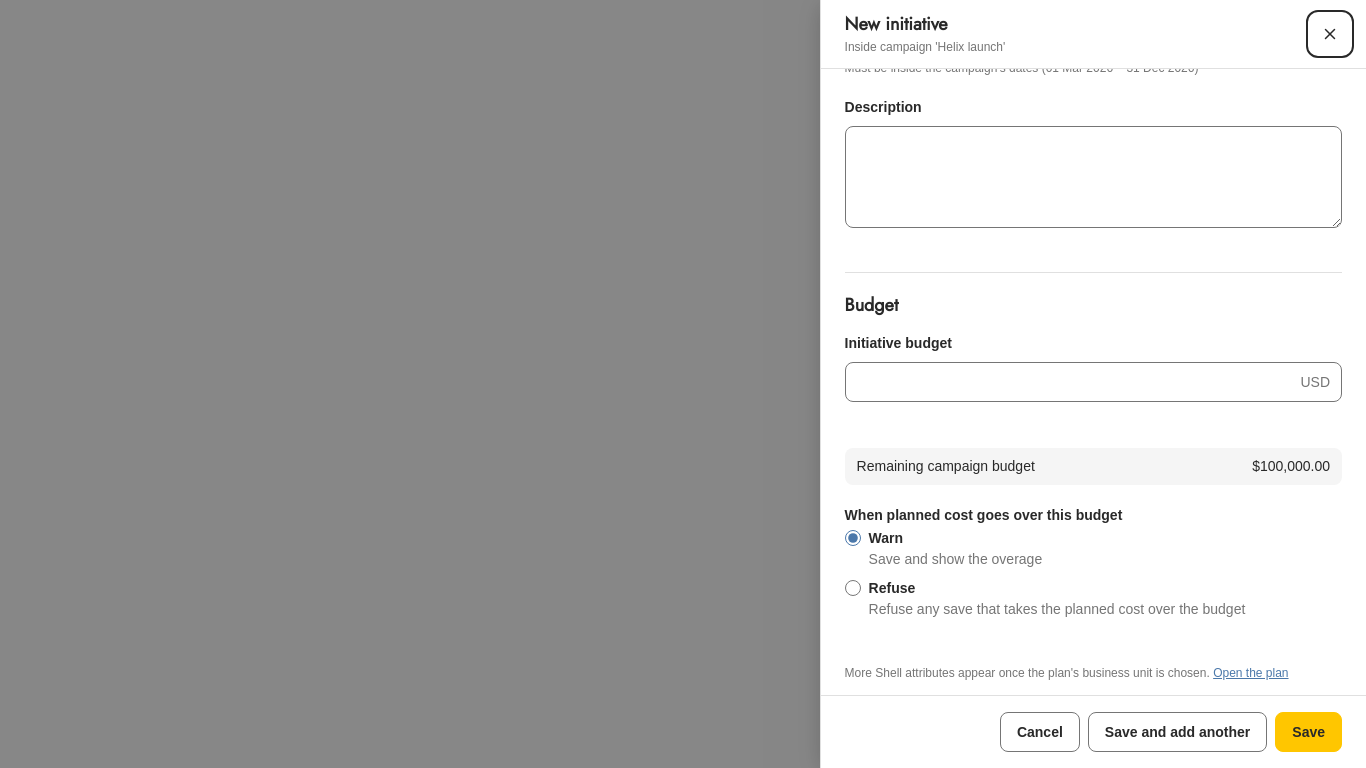
Test: NewInitiativePanel (feature 005, US2) › follows the typed budget in the remaining campaign budget (US2#3, FR-010)
This screenshot has width=1366, height=768.
(page scrolled)
expect the text "Remaining campaign budget" is shown: met, box [857,456,1035,477]
Type "150000" into the field labelled "Initiative budget" at (1093, 382), box [845,362,1342,402]
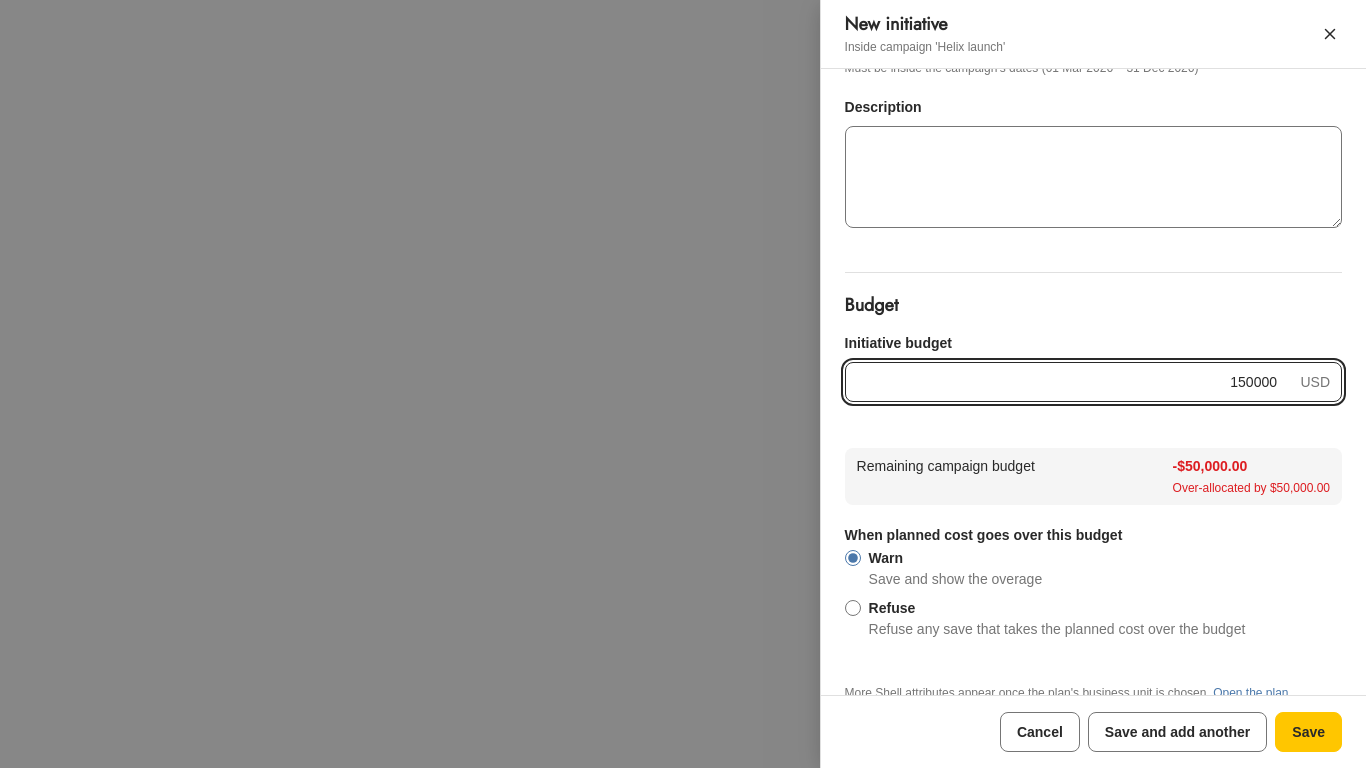
expect the text "-$50,000.00" is shown: met, box [1173,458,1247,474]
expect the text "Over-allocated by $50,000.00" is shown: met, box [1173,479,1330,497]
